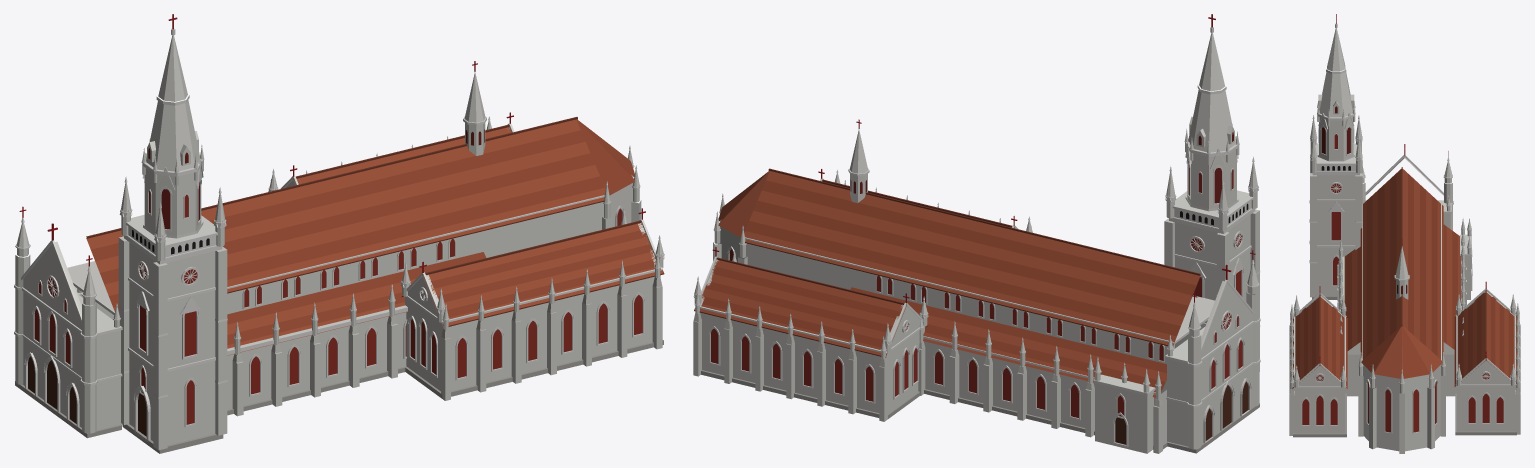
Rendered from santhome_basilica.glb.
The picture shows the model from 3 angles, left to right: view 1: azimuth 30°, elevation 25°; view 2: azimuth 150°, elevation 25°; view 3: azimuth 270°, elevation 25°; orthographic projection. The views are drawn at different scales.
Visible parts, largest first — view 1: santhome_basilica; view 2: santhome_basilica; view 3: santhome_basilica.
Boxes of the visible parts, x1,y1,x2,y2 form: santhome_basilica: (14, 14, 664, 453); santhome_basilica: (693, 14, 1260, 453); santhome_basilica: (1289, 14, 1520, 453).
Size of the model in its own units: 69.5 by 47.6 by 36.2.
